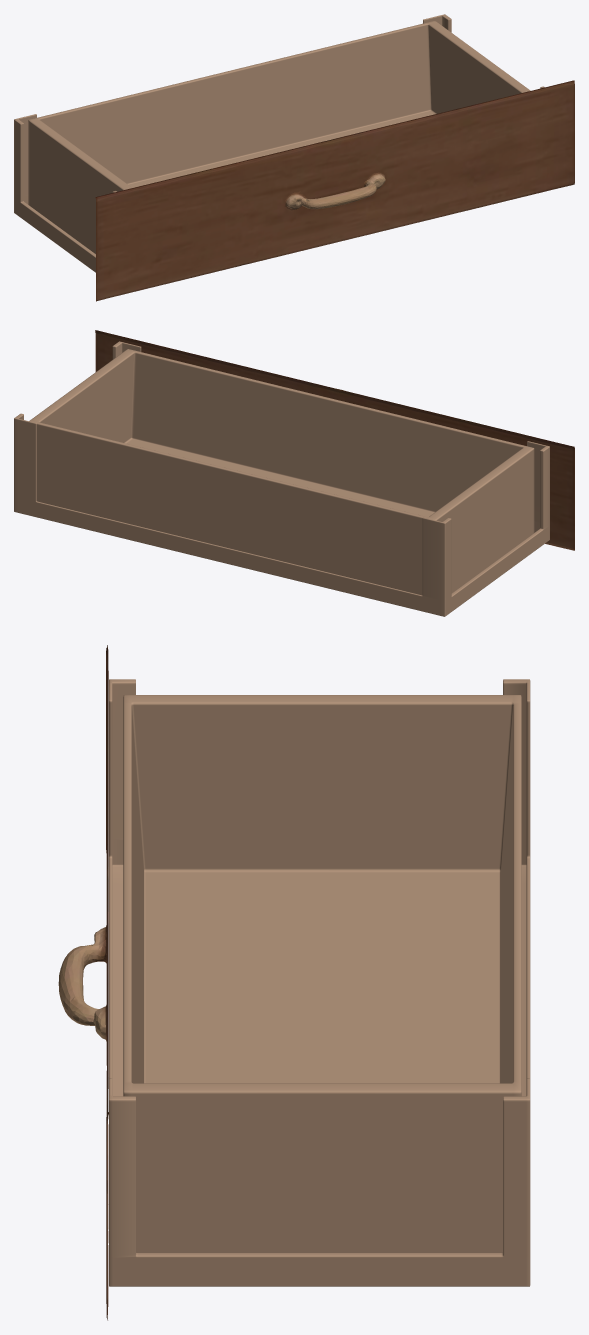
The model's file is drawer_1.glb.
The picture shows the model from 3 angles, top to bottom: view 1: azimuth 30°, elevation 25°; view 2: azimuth 150°, elevation 25°; view 3: azimuth 270°, elevation 25°; orthographic projection. The views are drawn at different scales.
Visible parts, largest first — view 1: source_front_cap_0, prefab_drawer_body_1; view 2: prefab_drawer_body_1, source_front_cap_0; view 3: prefab_drawer_body_1, source_front_cap_0.
Part boxes in pixels (left/top/right/bottom): source_front_cap_0: left=95, top=80, right=574, bottom=301; prefab_drawer_body_1: left=14, top=14, right=544, bottom=272; prefab_drawer_body_1: left=14, top=341, right=549, bottom=616; source_front_cap_0: left=95, top=330, right=574, bottom=550; prefab_drawer_body_1: left=109, top=679, right=530, bottom=1286; source_front_cap_0: left=58, top=645, right=108, bottom=1320.
Size of the model in its own units: 0.919 by 0.1909 by 0.3916.
2 materials, 1 textured.
